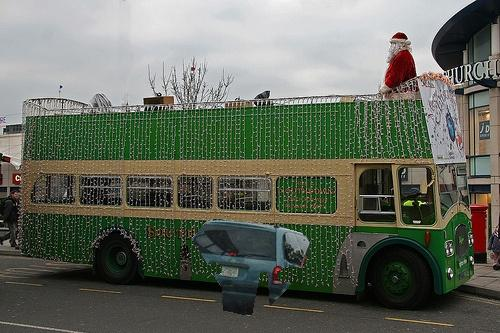tampered: (193, 220, 311, 316)
